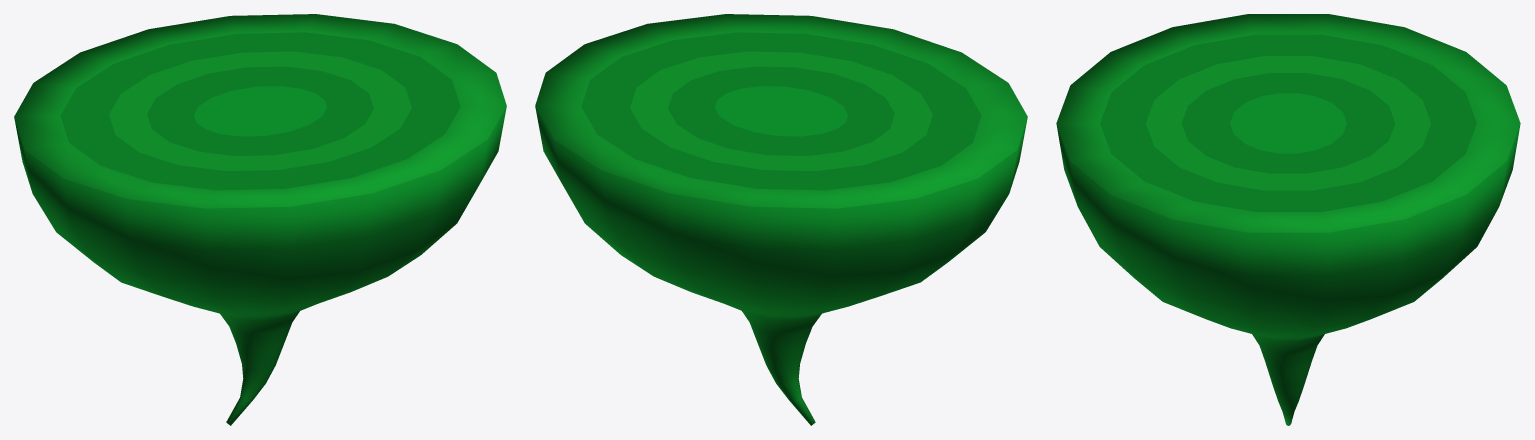
File: Beet_half_01.1.fbx
3 views of the same model, side by side, from view 1: azimuth 30°, elevation 25°; view 2: azimuth 150°, elevation 25°; view 3: azimuth 270°, elevation 25° (orthographic). The views are drawn at different scales.
Visible parts, largest first — view 1: Beet_half_01.1; view 2: Beet_half_01.1; view 3: Beet_half_01.1.
Boxes of the visible parts, box(x1,y1,x2,y2) form: Beet_half_01.1: box(14, 14, 506, 425); Beet_half_01.1: box(535, 14, 1027, 425); Beet_half_01.1: box(1056, 14, 1520, 425).
Size of the model in its own units: 71.56 by 64.21 by 48.51.
